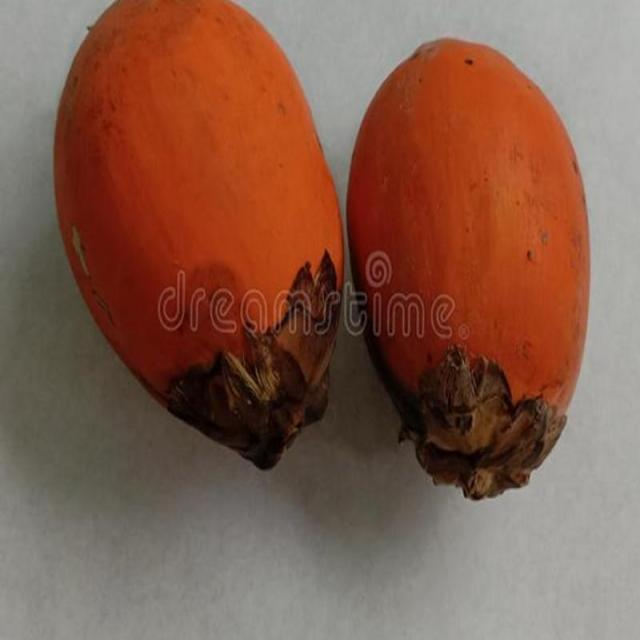good: (53, 0, 346, 472), (346, 38, 592, 504)
